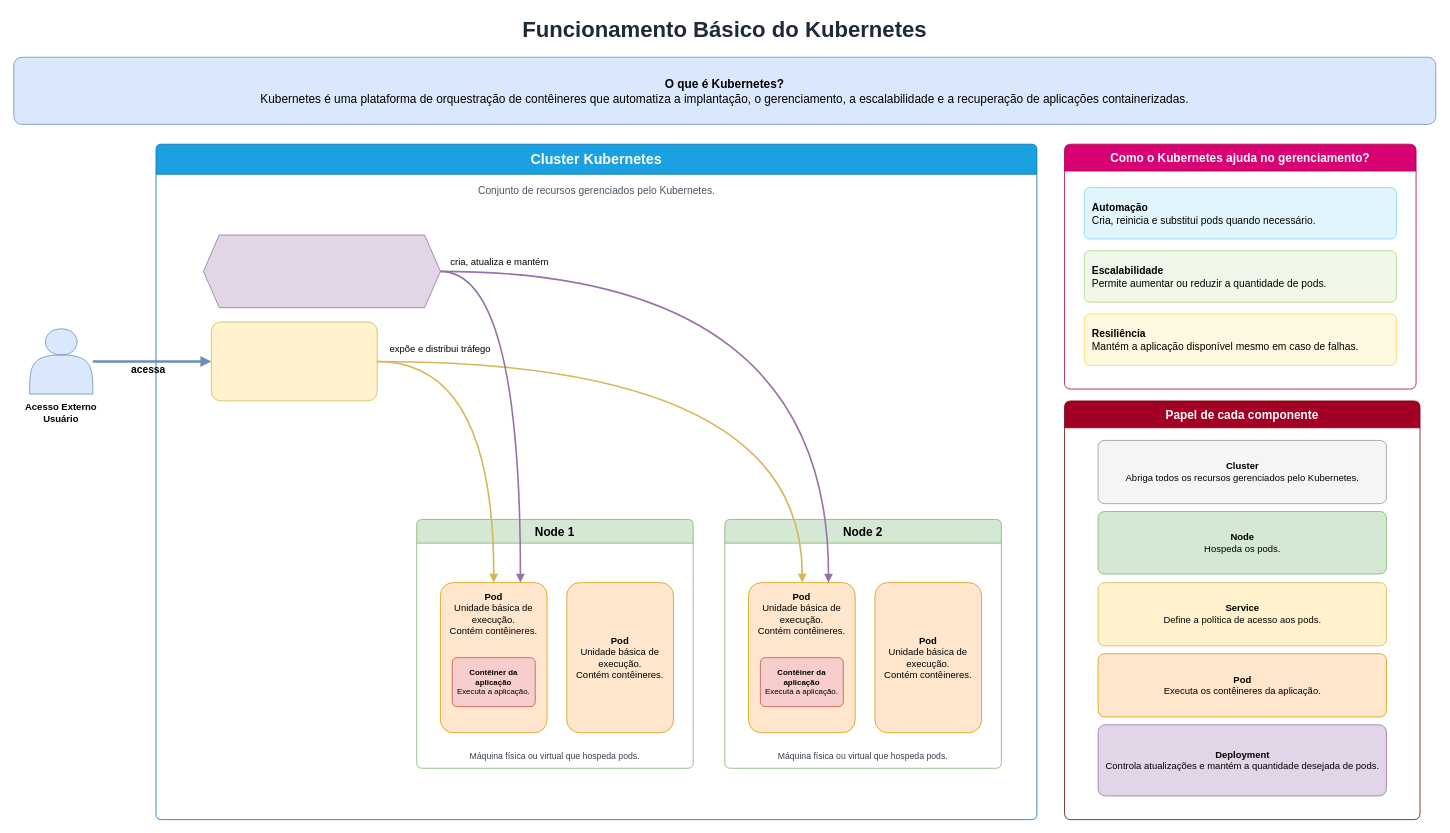
Image size: 1450x833. Some labels were removed from this diagram. The shapes that lost their labels are listed below. From the top down, each one's centre as x and y in pixels, then its label:
At point 321,271: "Deployment Controla atualizações e mantém o estado desejado dos pods.".
At point 294,361: "Service Define a política de acesso e expõe os pods.".
